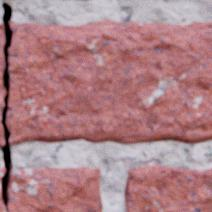brick: (124, 164, 211, 211)
broken_brick: (5, 19, 211, 144), (0, 166, 102, 211), (0, 24, 5, 144), (0, 166, 4, 181)
crack: (0, 1, 13, 210)
